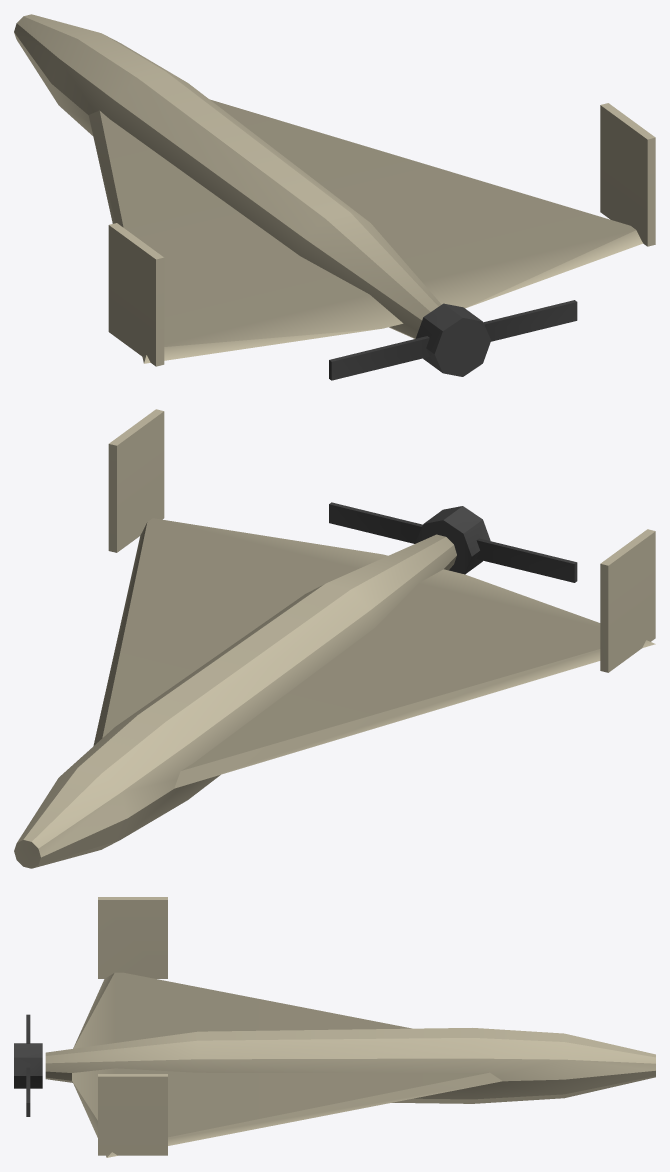
Rendered from rus_lm_geran2.glb.
The picture shows the model from 3 angles, top to bottom: view 1: azimuth 30°, elevation 25°; view 2: azimuth 150°, elevation 25°; view 3: azimuth 270°, elevation 25°; orthographic projection. The views are drawn at different scales.
Visible parts, largest first — view 1: body; view 2: body; view 3: body.
Part boxes in pixels (left/top/right/bottom): body: left=14, top=14, right=655, bottom=380; body: left=14, top=409, right=655, bottom=868; body: left=14, top=897, right=655, bottom=1157.
Bounding box in the file's own units: 2.28 × 0.6454 × 3.35.
